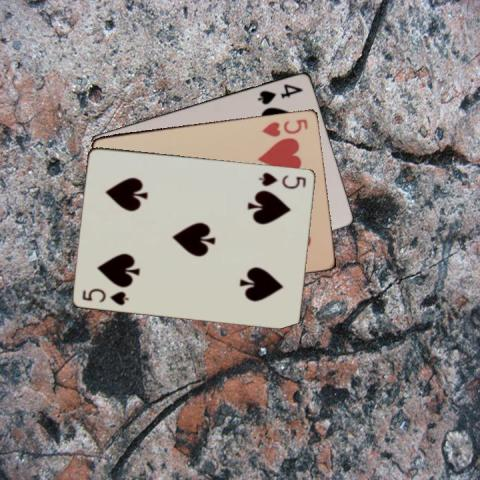4s: (254, 80, 304, 106)
5h: (258, 116, 310, 138)
5s: (79, 285, 131, 307), (255, 169, 308, 190)
